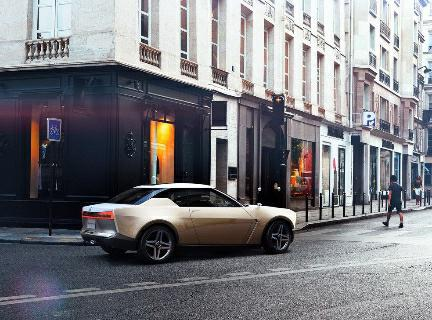日产-IDX: (69, 174, 304, 265)
